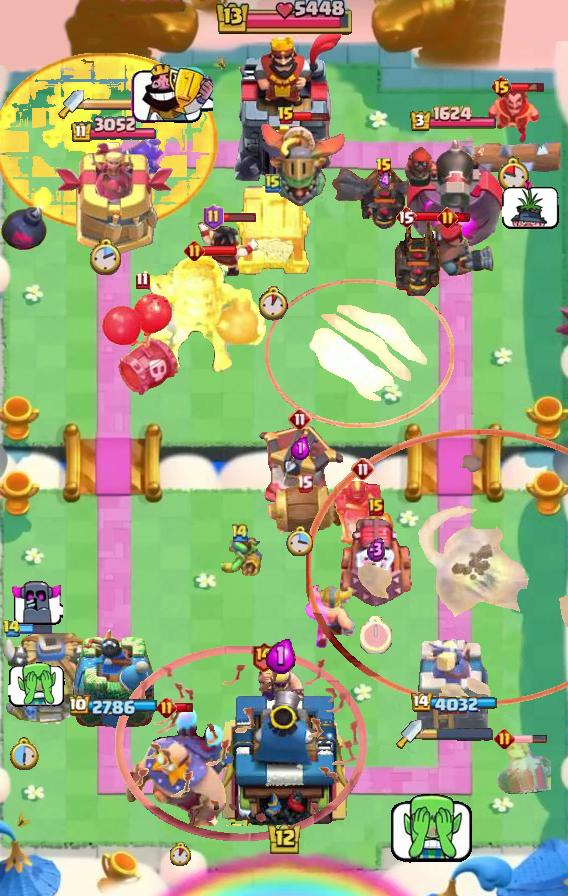archer-evolution: (332, 166, 436, 230), (392, 215, 446, 297)
arrows: (255, 660, 307, 710)
baby-dragon: (0, 184, 54, 252)
bar: (54, 142, 173, 256), (416, 637, 490, 731)
bomb: (233, 182, 313, 276)
clock: (213, 0, 355, 38)
electro-giant: (144, 252, 268, 376)
electro-spirit: (266, 637, 296, 675), (290, 436, 310, 460), (367, 537, 386, 562), (377, 171, 390, 191)
elixir: (90, 237, 123, 277), (360, 616, 392, 654), (498, 155, 530, 192), (257, 287, 290, 322), (9, 737, 40, 771), (286, 525, 314, 556), (169, 842, 190, 866)
emote: (414, 209, 449, 222), (18, 622, 53, 635), (202, 245, 238, 257), (510, 81, 545, 93), (293, 110, 329, 121), (221, 213, 257, 224), (512, 734, 548, 744), (175, 703, 194, 714), (455, 213, 472, 224)
freeze: (331, 480, 395, 548)
giant-snowball: (216, 535, 264, 577)
goblin-giant: (304, 583, 356, 649)
golem: (337, 515, 415, 609)
ice-wizard: (266, 279, 454, 428)
king-tower: (214, 684, 354, 826), (223, 31, 345, 181)
king-tower-bar: (84, 97, 156, 111), (422, 727, 494, 741)
lava-pup: (256, 425, 344, 507)
little-prince: (124, 704, 236, 828)
lumberjack: (194, 219, 260, 277), (486, 86, 542, 146)
minion: (438, 136, 568, 178)
mortar-evolution: (481, 741, 551, 799)
night-witch: (254, 120, 348, 208)
phoenix-egg: (0, 53, 218, 231)
phoenix-small: (419, 218, 497, 278)
prince: (0, 633, 102, 729)
queen-tower: (72, 627, 156, 731)
royal-ghost: (306, 430, 568, 707)
royal-recruit-evolution: (101, 293, 183, 399)
selected: (410, 105, 499, 133), (70, 116, 158, 144), (68, 694, 159, 717), (409, 693, 497, 715)
skeleton: (387, 794, 476, 864), (129, 62, 213, 126), (502, 178, 560, 230), (7, 661, 64, 707), (9, 579, 62, 625)
skeleton-barrel: (115, 644, 367, 842)
spear-goblin: (117, 133, 165, 181)
text: (252, 641, 277, 672), (288, 407, 312, 431), (351, 457, 375, 481), (491, 75, 514, 99), (204, 204, 225, 230), (395, 205, 417, 229), (183, 239, 204, 261), (493, 728, 515, 749), (437, 208, 458, 229), (156, 698, 177, 719), (230, 521, 250, 543), (277, 106, 295, 126), (375, 157, 393, 177), (3, 619, 22, 637), (295, 475, 312, 494), (265, 173, 281, 193), (368, 498, 384, 516), (135, 271, 149, 289)
the-log: (264, 481, 344, 541)
tower-bar: (401, 132, 508, 256)
